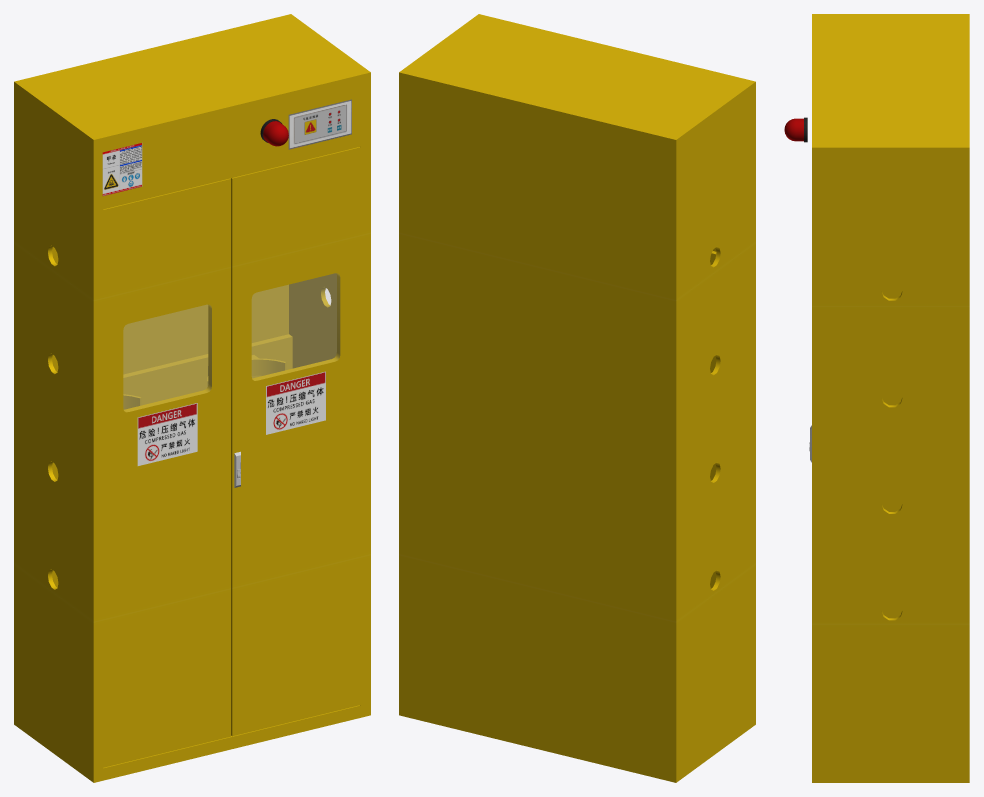
The model's file is SM_实验室气瓶柜001.fbx.
3 renders of one model, left to right at view 1: azimuth 30°, elevation 25°; view 2: azimuth 150°, elevation 25°; view 3: azimuth 270°, elevation 25°, orthographic.
Parts seen in each view (by area): view 1: SM_实验室气瓶柜001; view 2: SM_实验室气瓶柜001; view 3: SM_实验室气瓶柜001.
Part boxes in pixels (left/top/right/bottom): SM_实验室气瓶柜001: left=14, top=14, right=370, bottom=782; SM_实验室气瓶柜001: left=399, top=14, right=755, bottom=782; SM_实验室气瓶柜001: left=784, top=14, right=969, bottom=782.
Bounding box in the file's own units: 90.23 × 200 × 52.82.
